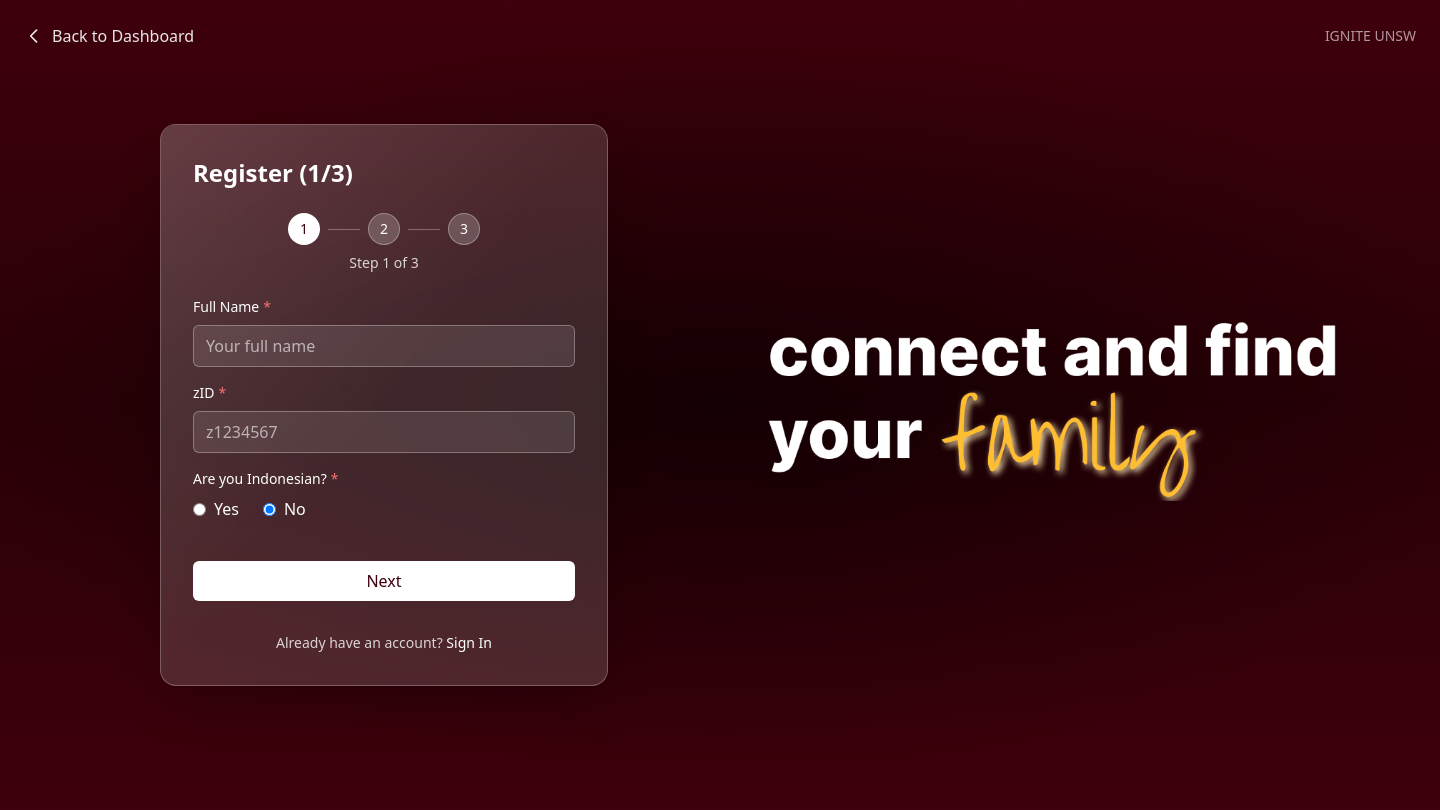
Scenario: Register Page › validates step 1 fields
Click the button "Next".
click(384, 581)  # box [193, 561, 575, 601]
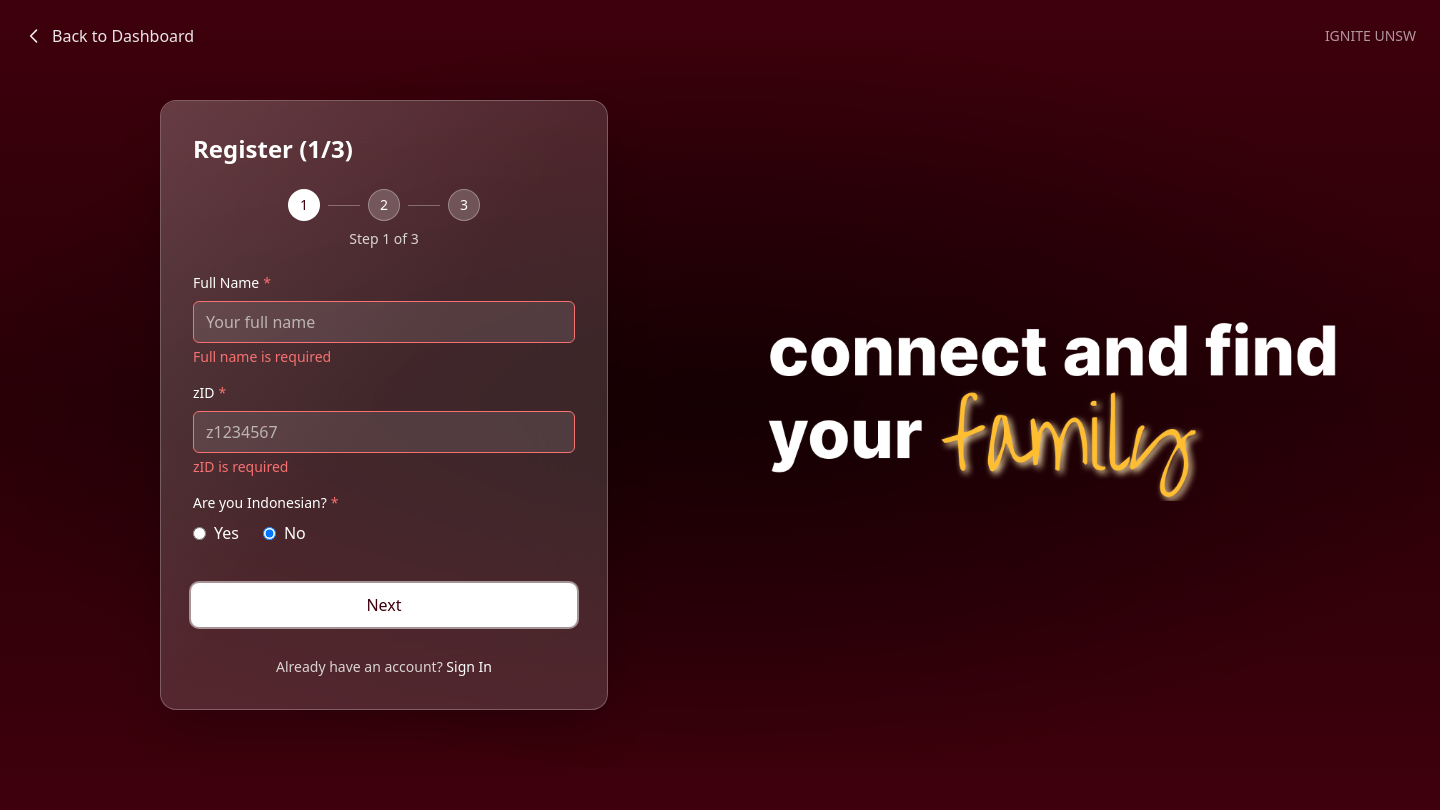
Now the text "Full name is required" is shown, box [193, 347, 331, 366]
Now the text "zID is required" is shown, box [193, 457, 288, 476]
